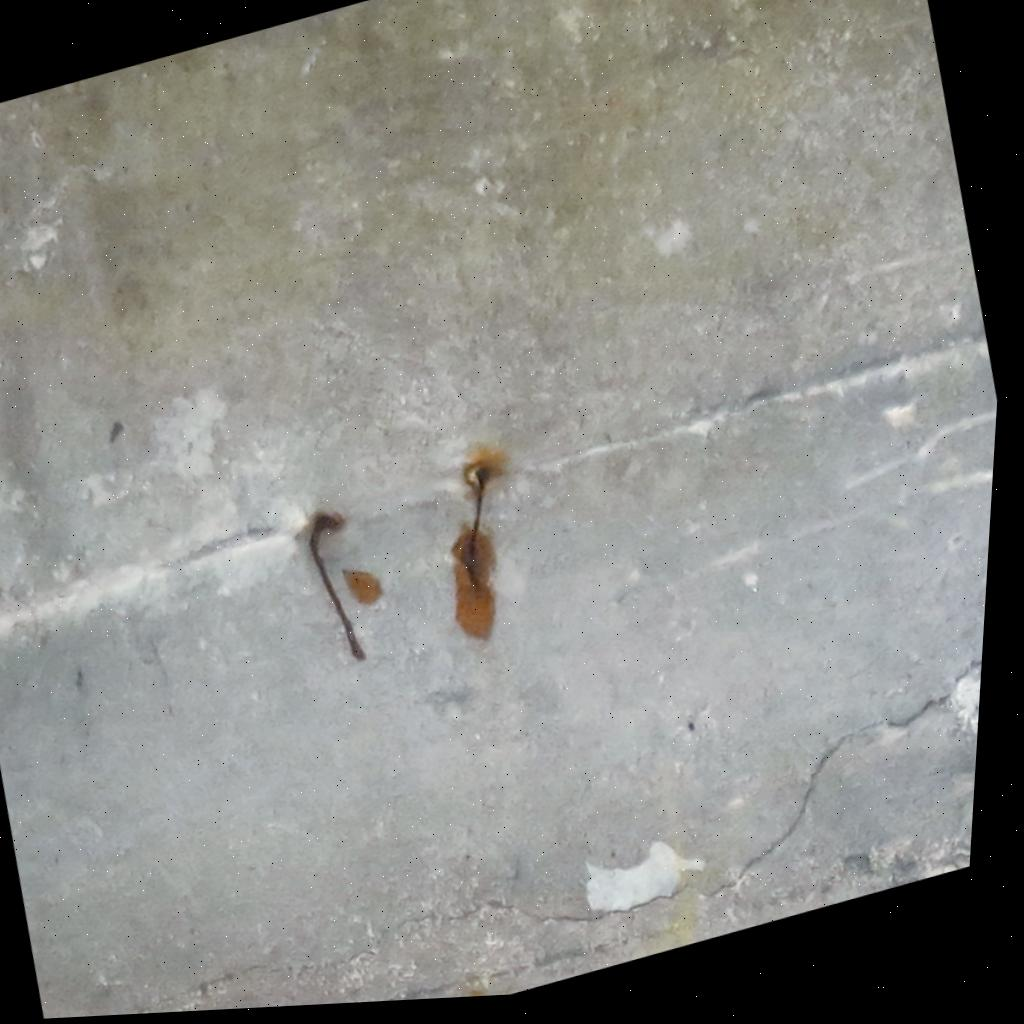exposed_rebar: (451, 447, 506, 639), (310, 512, 366, 660)
